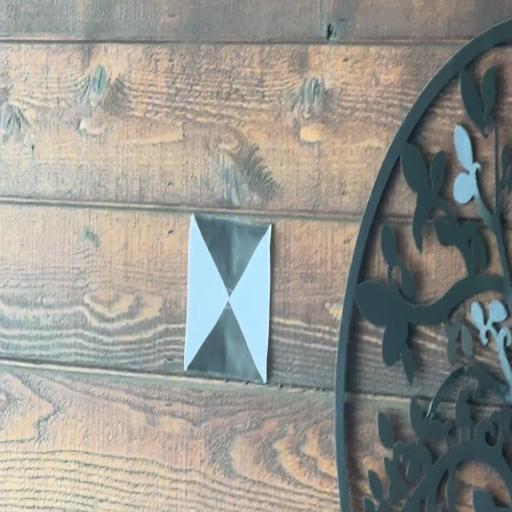target: (182, 213, 270, 385)
